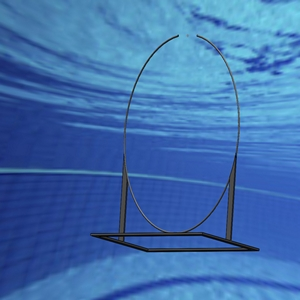circle: (93, 33, 260, 252)
